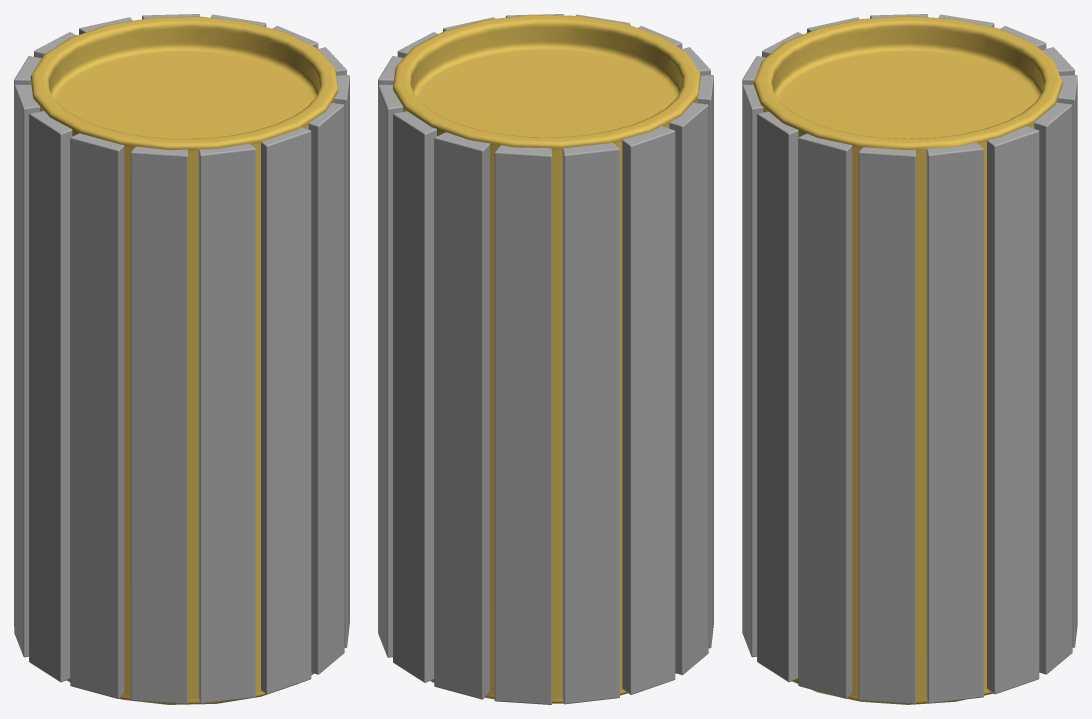
Rendered from WideWheel.fbx.
3 views of the same model, side by side, from view 1: azimuth 30°, elevation 25°; view 2: azimuth 150°, elevation 25°; view 3: azimuth 270°, elevation 25° (orthographic).
Visible parts, largest first — view 1: Box, WideWheel; view 2: Box, WideWheel; view 3: Box, WideWheel.
Part boxes in pixels (x1,y1,x2,y2): Box: [14, 14, 349, 704]; WideWheel: [30, 16, 338, 704]; Box: [378, 14, 713, 704]; WideWheel: [393, 15, 700, 703]; Box: [742, 14, 1077, 704]; WideWheel: [753, 16, 1062, 704].
Bounding box in the file's own units: 109 × 200 × 108.
